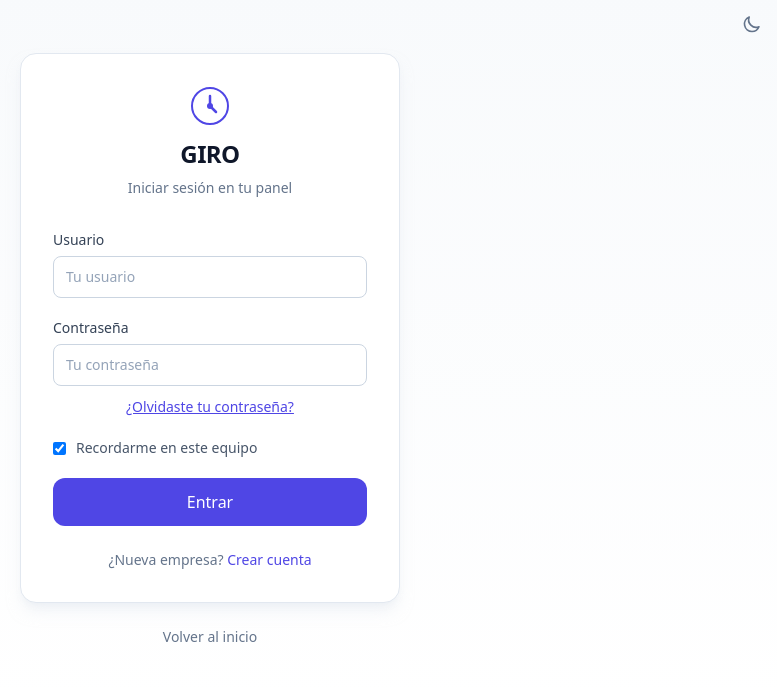
it: LoginPage › muestra error cuando el servidor responde con 401
Type "wrong" into the field labelled "Usuario" at point(210, 277), box [53,256,367,298]
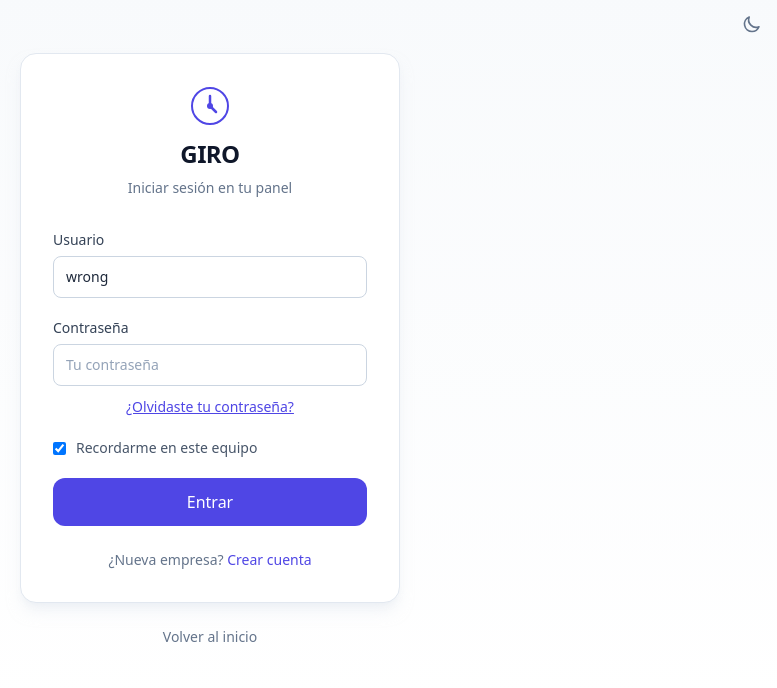
Type "wrong" into the password field labelled "Contraseña" at point(210, 365), box [53,344,367,386]
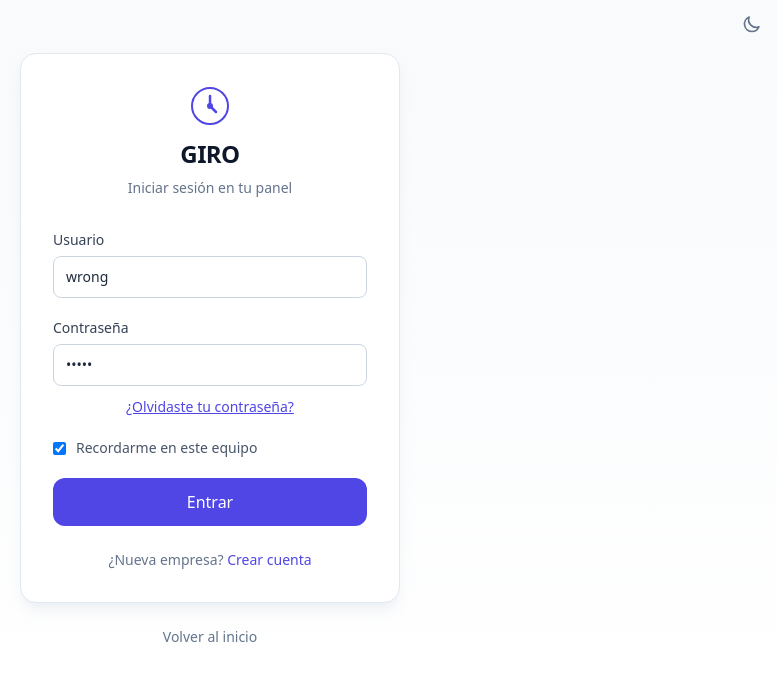
Click the button "Entrar" at point(210, 502), box [53,478,367,526]
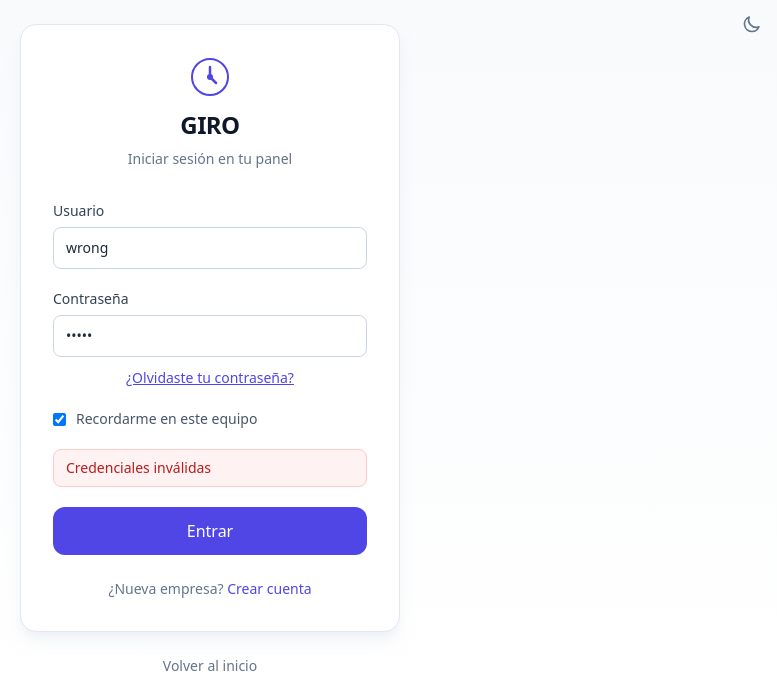
Expected: the text "Credenciales inválidas" is shown, [53,449,367,487]
